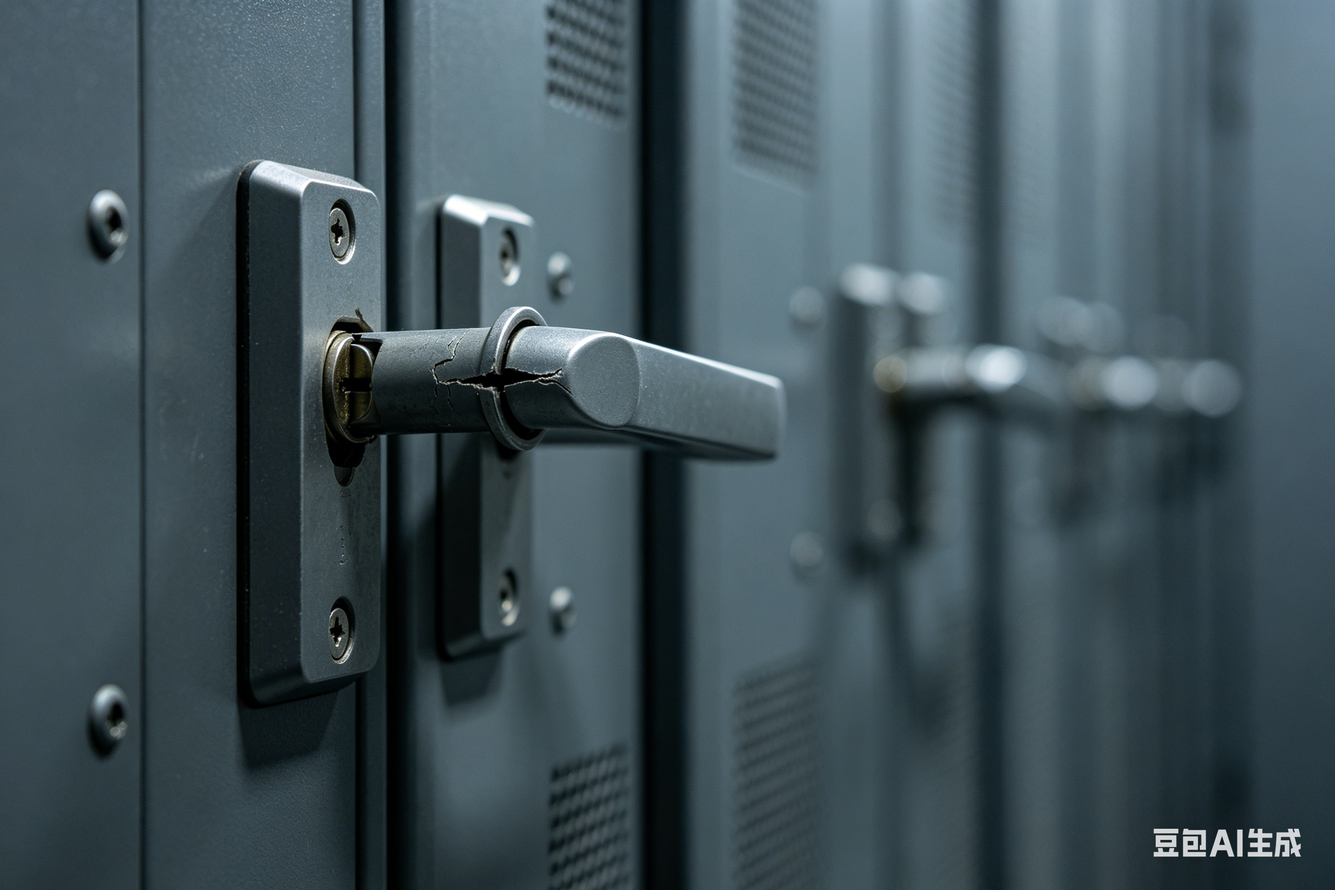BadLock: (410, 334, 582, 413)
